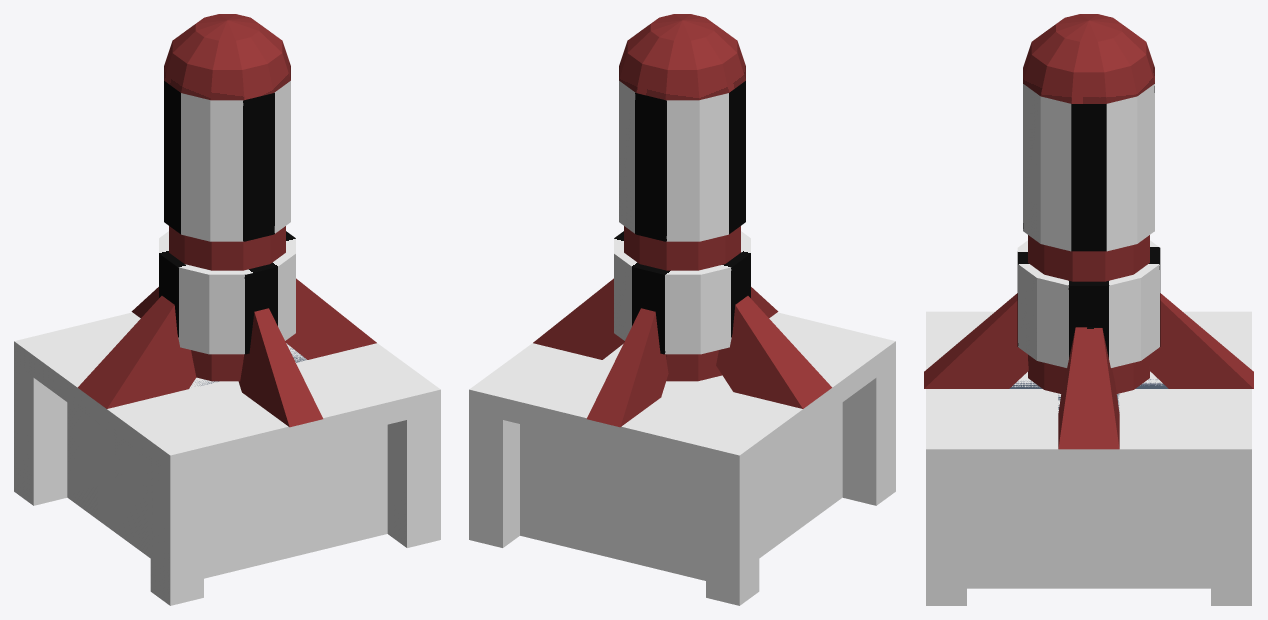
The model's file is spaceship.gltf.
3 views of the same model, side by side, from view 1: azimuth 30°, elevation 25°; view 2: azimuth 150°, elevation 25°; view 3: azimuth 270°, elevation 25° (orthographic). The views are drawn at different scales.
Visible parts, largest first — view 1: cube (×5), cylinder (×3), pyramid (×2), sphere; view 2: cube (×5), cylinder (×3), pyramid (×2), sphere; view 3: cube (×4), cylinder (×3), pyramid (×2), sphere.
Boxes of the visible parts, left/top/right/bottom form: cube (×5): left=14, top=312, right=440, bottom=605; cylinder (×3): left=159, top=81, right=295, bottom=381; pyramid (×2): left=77, top=278, right=376, bottom=427; sphere: left=164, top=14, right=290, bottom=100; cube (×5): left=469, top=312, right=895, bottom=605; cylinder (×3): left=614, top=81, right=750, bottom=381; pyramid (×2): left=533, top=278, right=832, bottom=427; sphere: left=619, top=14, right=745, bottom=100; cube (×4): left=926, top=311, right=1251, bottom=605; cylinder (×3): left=1017, top=84, right=1160, bottom=393; pyramid (×2): left=924, top=293, right=1253, bottom=449; sphere: left=1023, top=14, right=1154, bottom=103.
Size of the model in its own units: 1 by 1.75 by 1.01.
Materials: 6 (5 with a texture image).
